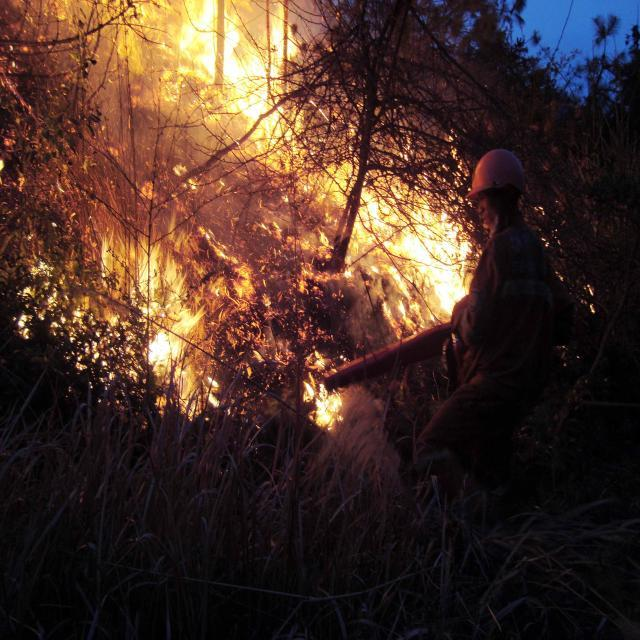Fire: (1, 0, 483, 432), (580, 284, 596, 314)
